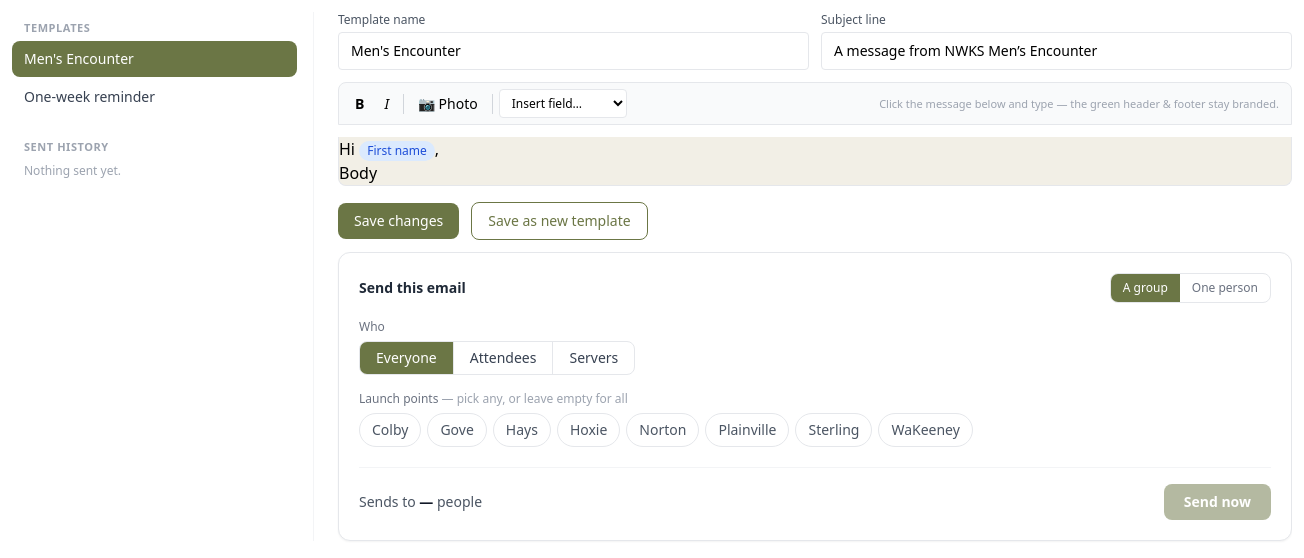
TemplateEditor › switches to a different template when clicked in the list
The image size is (1304, 558).
Expected: the field showing "A message from NWKS Men" is shown, [821,32,1292,70]
Click the button "One-week reminder" at (154, 96), box [12,78,297,114]
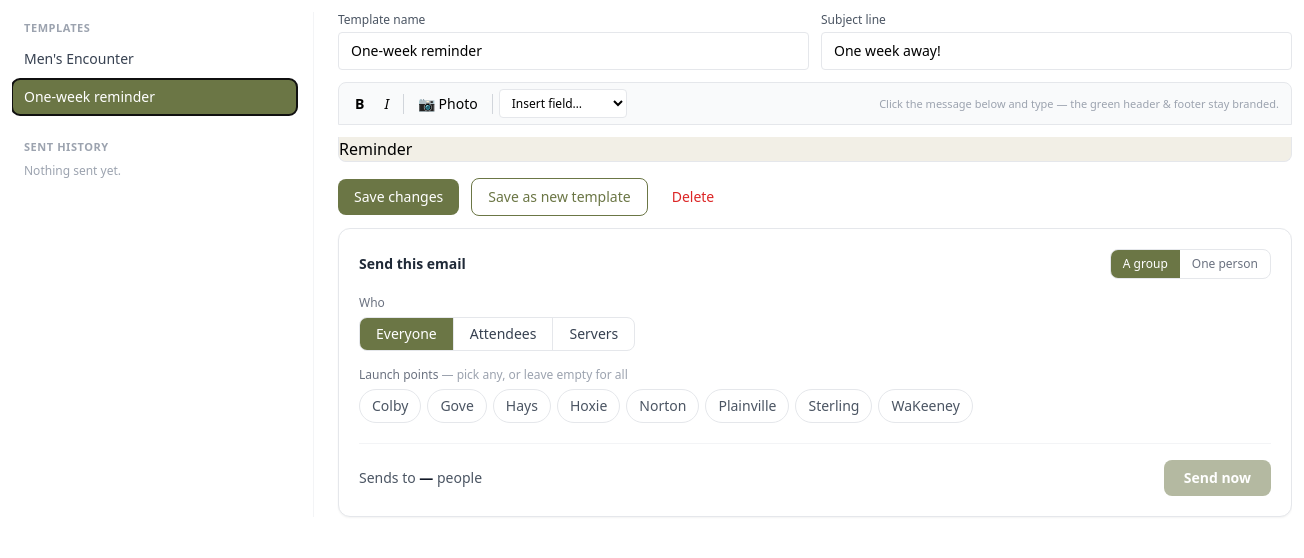
Expected: the field showing "One week away!" is shown, [821,32,1292,70]
